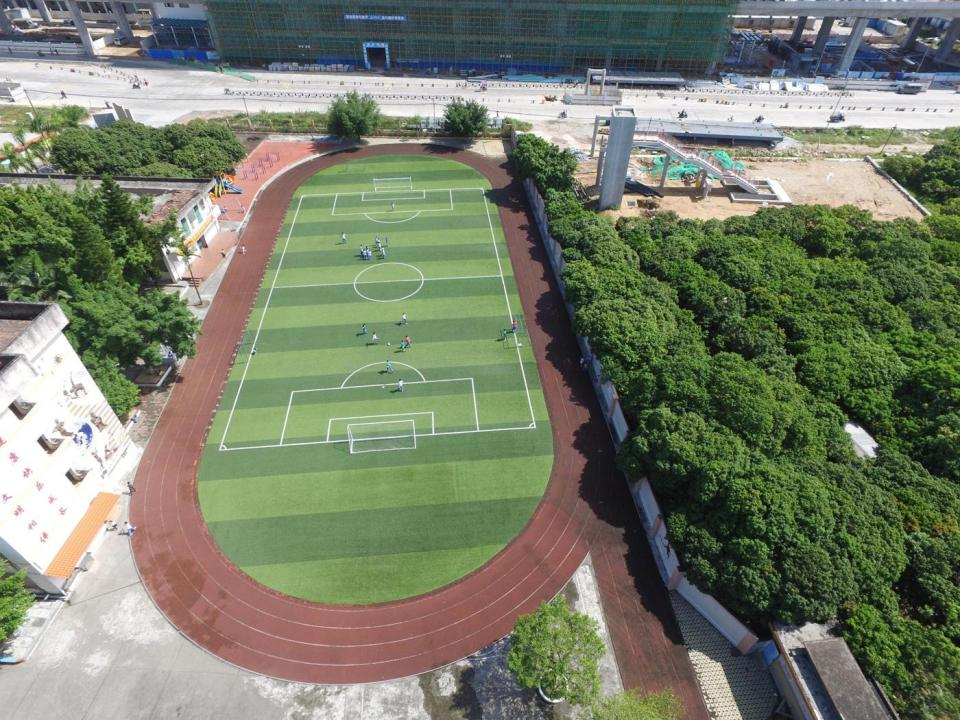car: (899, 76, 921, 86), (824, 76, 844, 84)
van: (899, 84, 921, 96)
